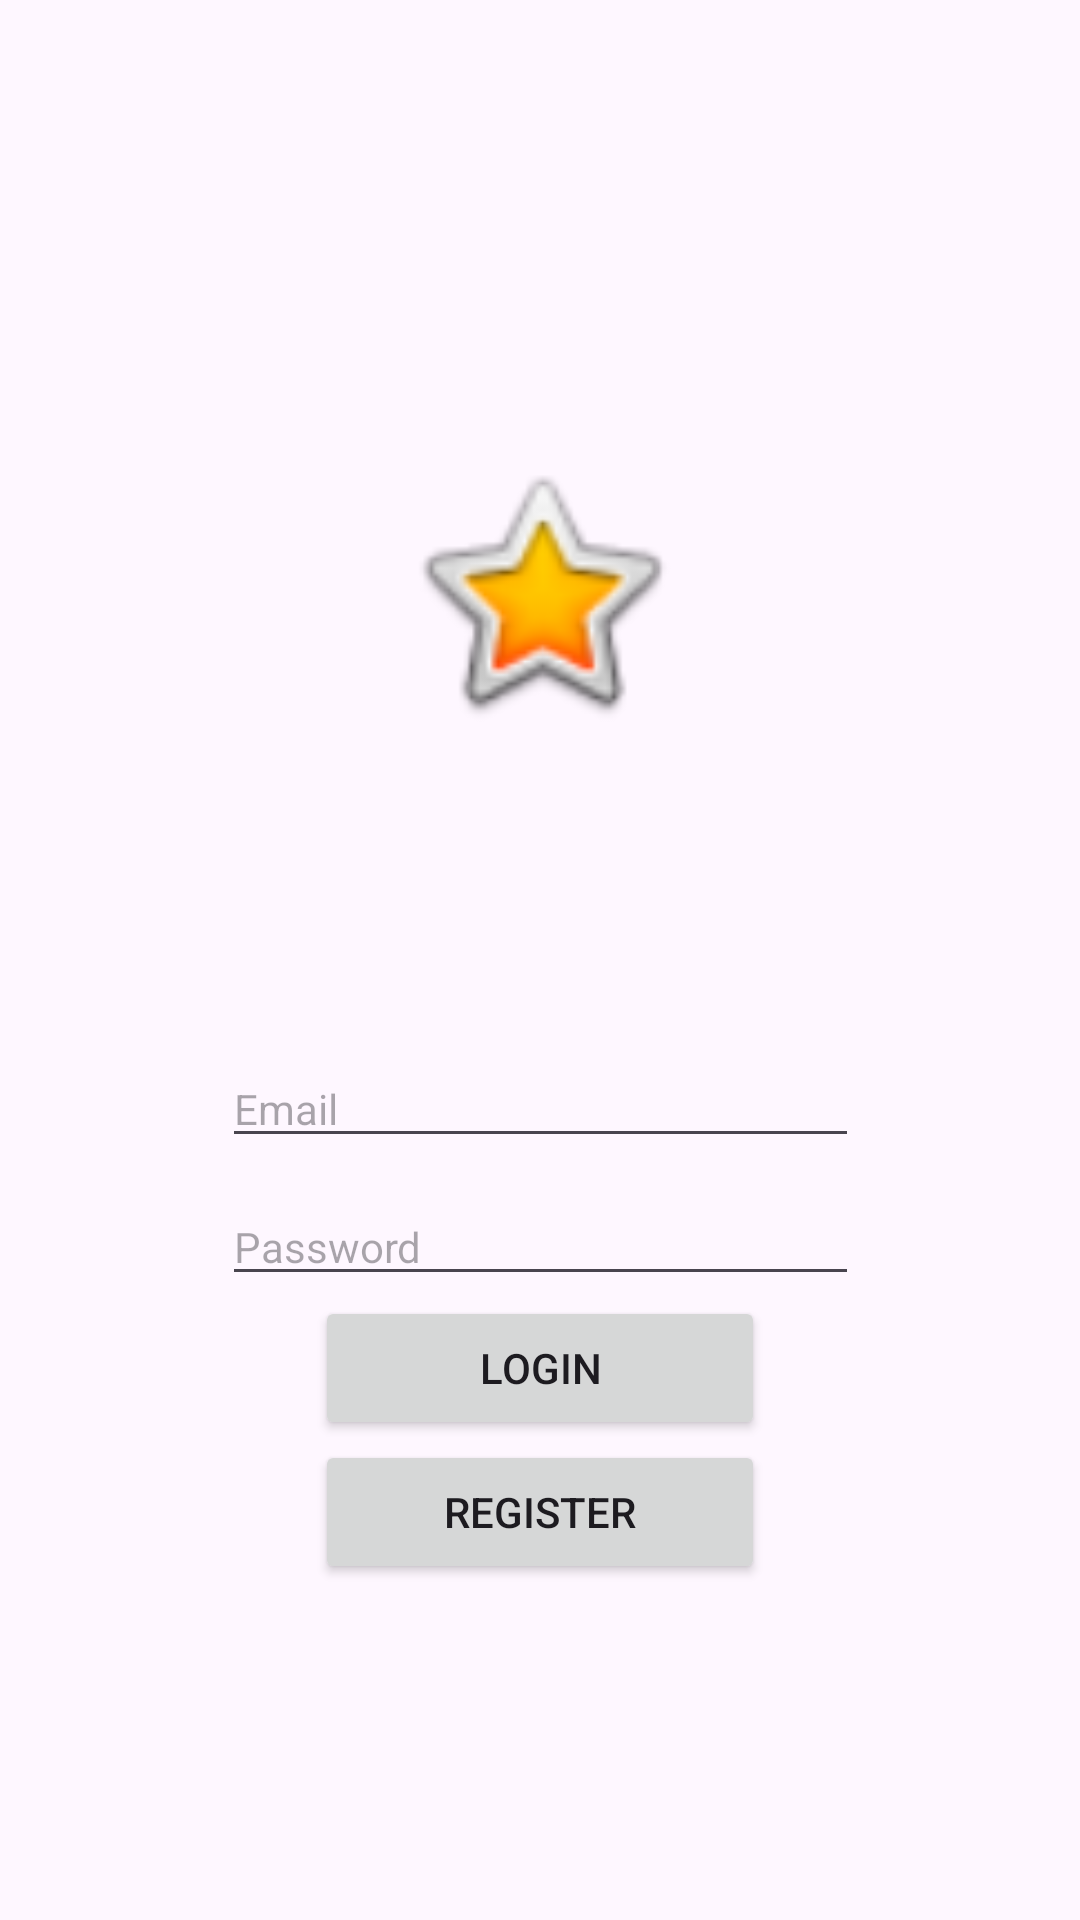

Locate icon controls on the screen. Image size 1080px×1920px, boxes as (x1, y1, x2, y2).
star on: (424, 479, 662, 711)
